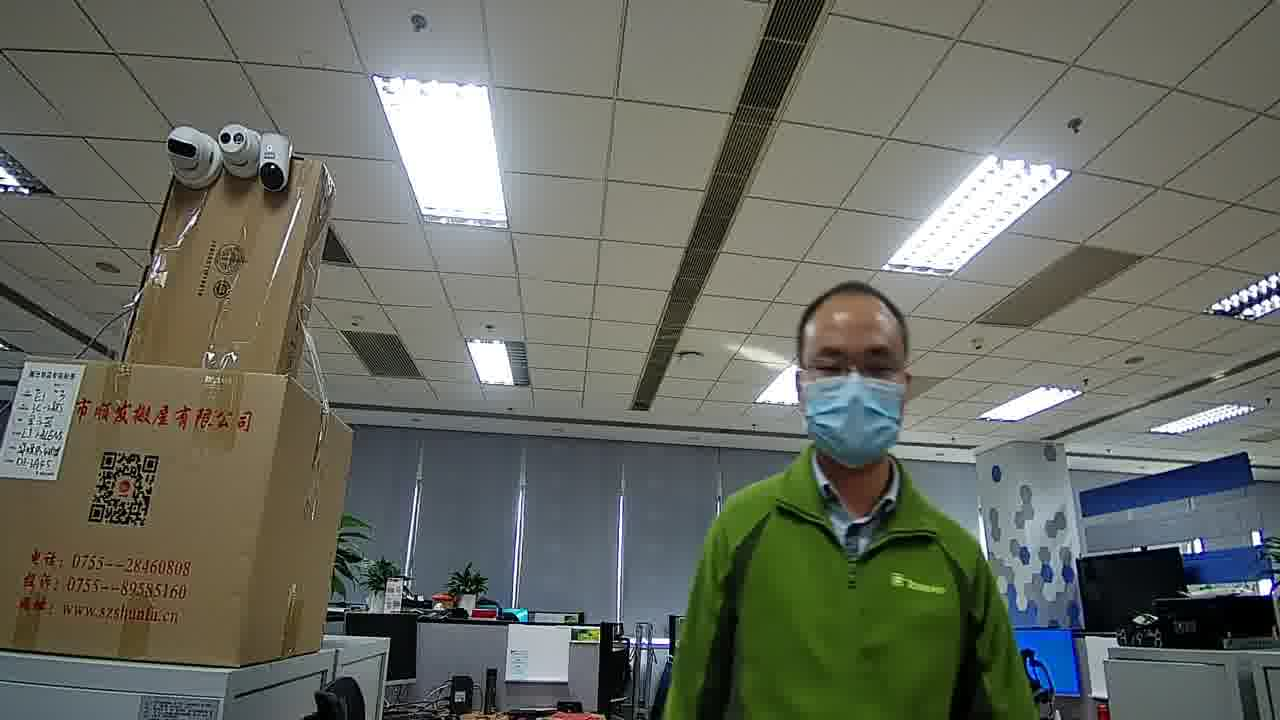face: (801, 303, 907, 472)
mask: (799, 370, 903, 470)
person: (681, 276, 1005, 580)
